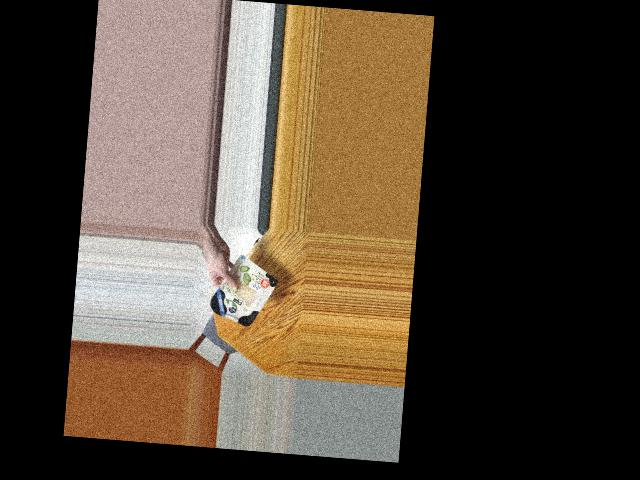cheese: (209, 261, 275, 327)
